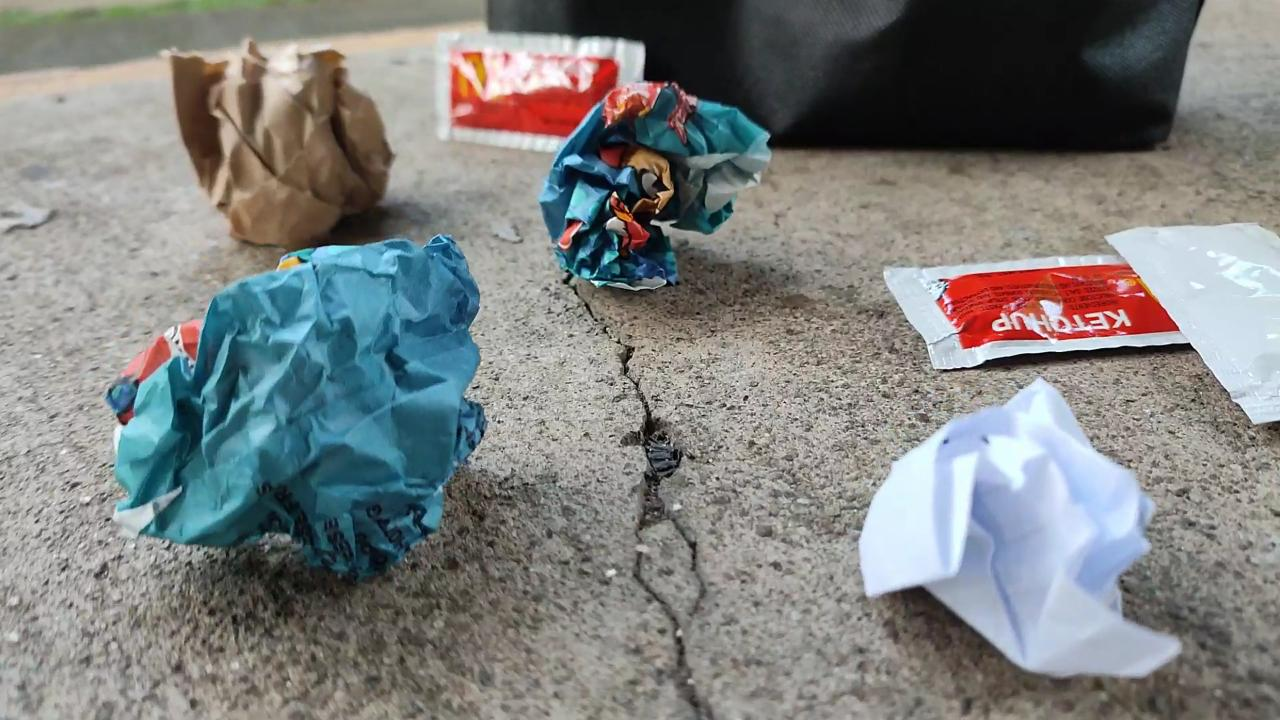Paper: (100, 219, 512, 600), (849, 375, 1185, 707), (142, 25, 397, 236), (546, 72, 772, 299)
